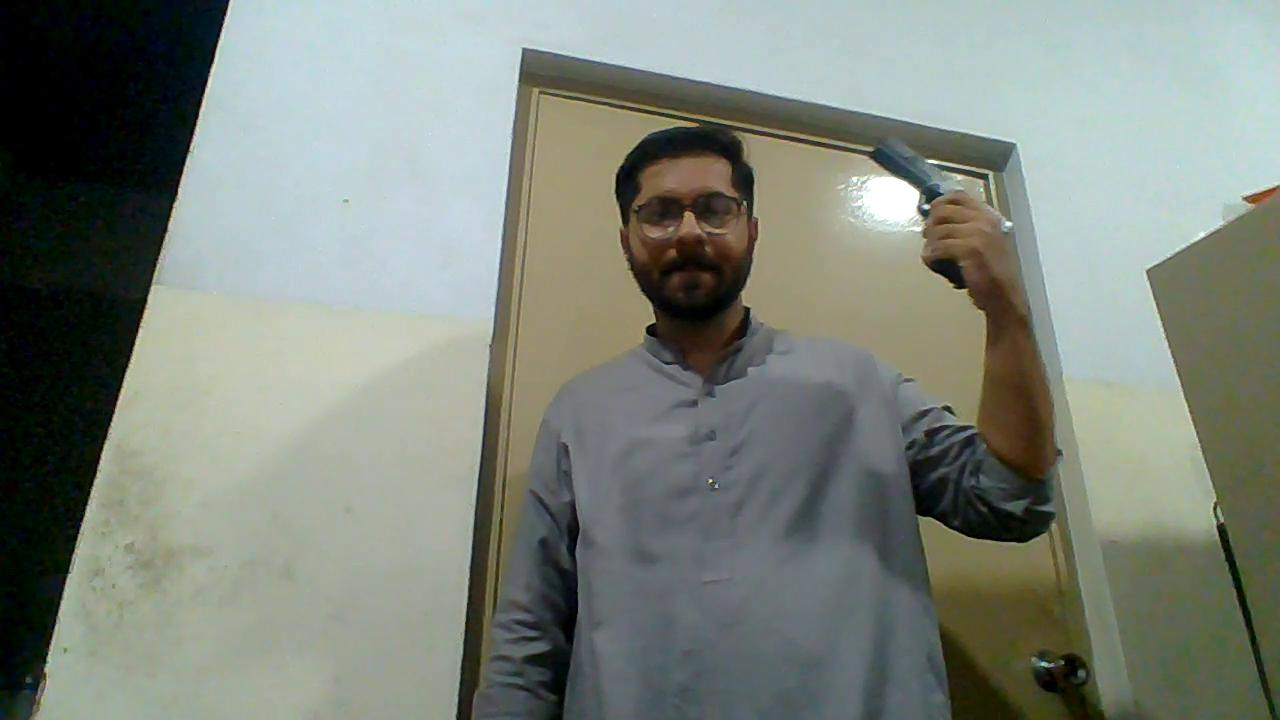criminal: (471, 122, 1063, 720)
weapon: (866, 133, 973, 291)
